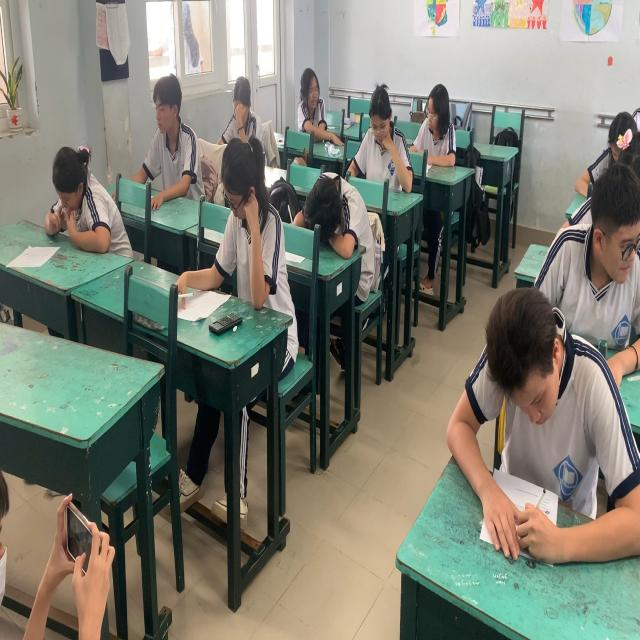cheating: (564, 156, 640, 374), (286, 60, 341, 140)
not_cheating: (458, 305, 620, 554), (209, 142, 288, 305), (45, 135, 125, 257), (147, 77, 200, 208), (358, 77, 407, 188), (408, 77, 460, 167), (214, 67, 269, 142)
